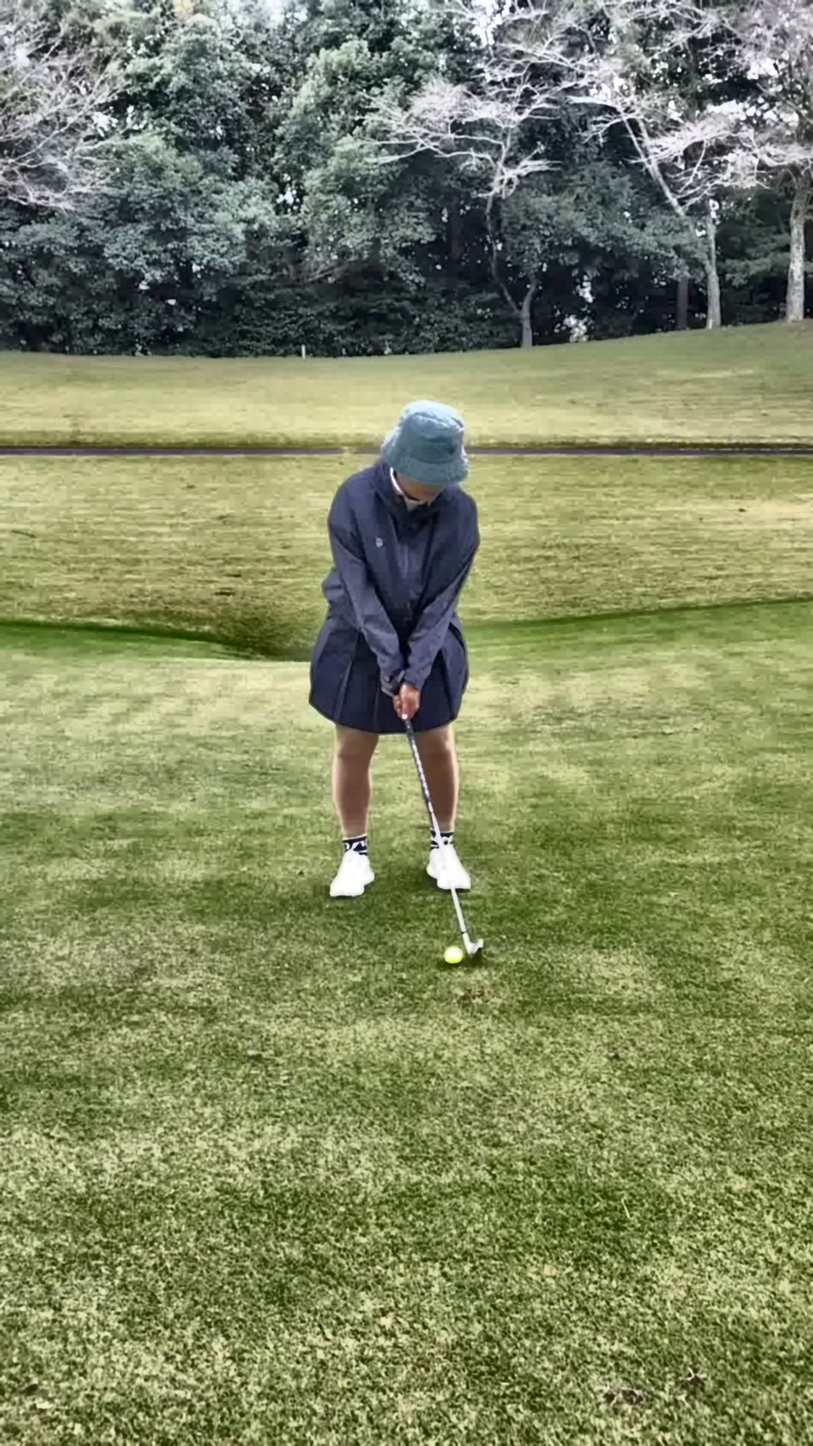clubhead: (403, 901, 534, 1003)
